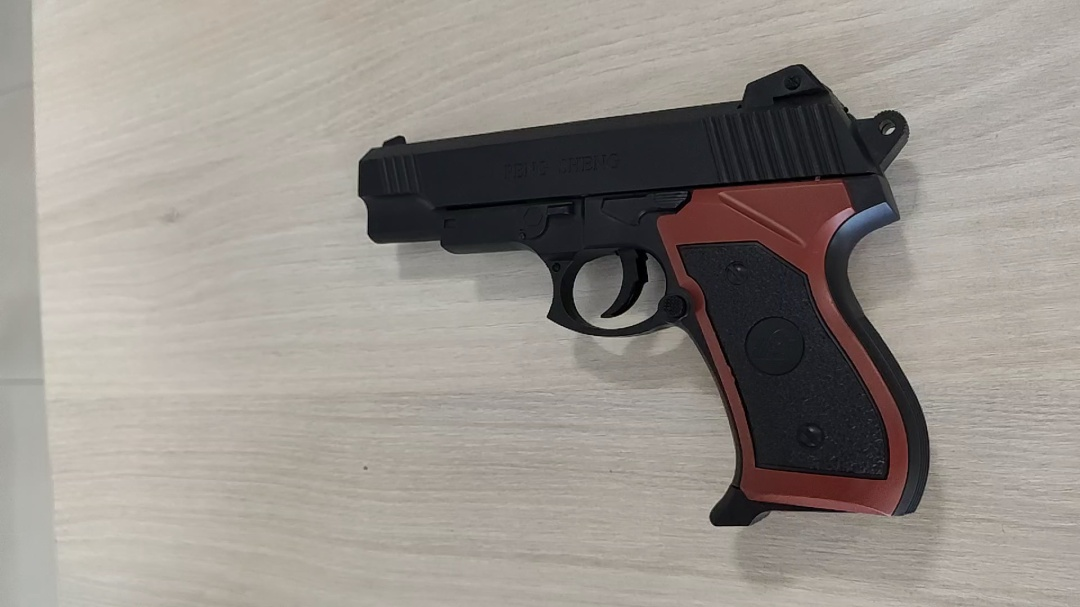gun: (384, 206, 463, 260)
